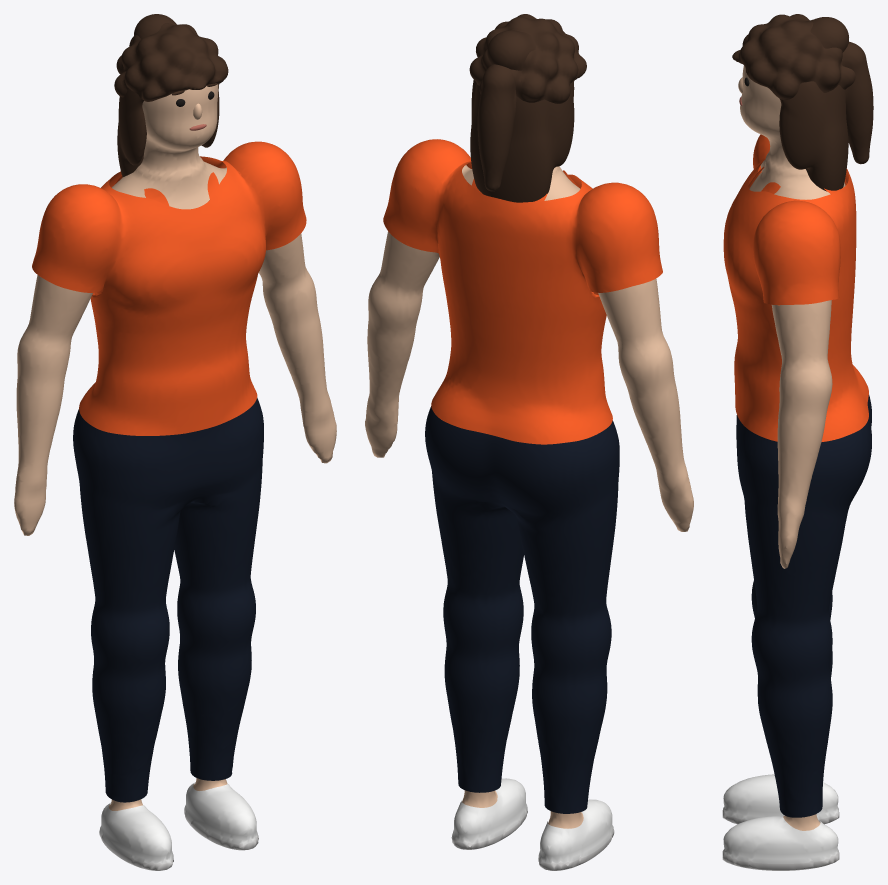
File: avatar_base.glb
3 views of the same model, side by side, from view 1: azimuth 30°, elevation 25°; view 2: azimuth 150°, elevation 25°; view 3: azimuth 270°, elevation 25° (orthographic).
Visible parts, largest first — view 1: bottom_joggers, top_tee, body, shoes, hair_curly, hair_long; view 2: bottom_joggers, top_tee, body, hair_long, shoes, hair_curly, hair_ponytail, hair_bun; view 3: bottom_joggers, top_tee, body, shoes, hair_curly, hair_long, hair_ponytail, hair_bun.
Part boxes in pixels (box(x1,y1,x2,y2)): bottom_joggers: box(73, 397, 263, 802); top_tee: box(32, 141, 306, 435); body: box(14, 84, 336, 810); shoes: box(99, 782, 258, 870); hair_curly: box(114, 23, 228, 101); hair_long: box(117, 84, 219, 176); bottom_joggers: box(425, 406, 619, 813); top_tee: box(383, 139, 662, 444); body: box(365, 165, 693, 828); hair_long: box(470, 79, 574, 202); shoes: box(451, 778, 614, 870); hair_curly: box(469, 14, 586, 103); hair_ponytail: box(477, 64, 516, 191); hair_bun: box(487, 30, 535, 70); bottom_joggers: box(736, 395, 871, 817); top_tee: box(723, 134, 868, 441); body: box(740, 65, 845, 830); shoes: box(722, 774, 839, 870); hair_curly: box(732, 14, 855, 99); hair_long: box(779, 81, 848, 191); hair_ponytail: box(841, 41, 873, 164); hair_bun: box(806, 17, 848, 52).
Size of the model in its own units: 0.7441 by 1.8 by 0.2986.
